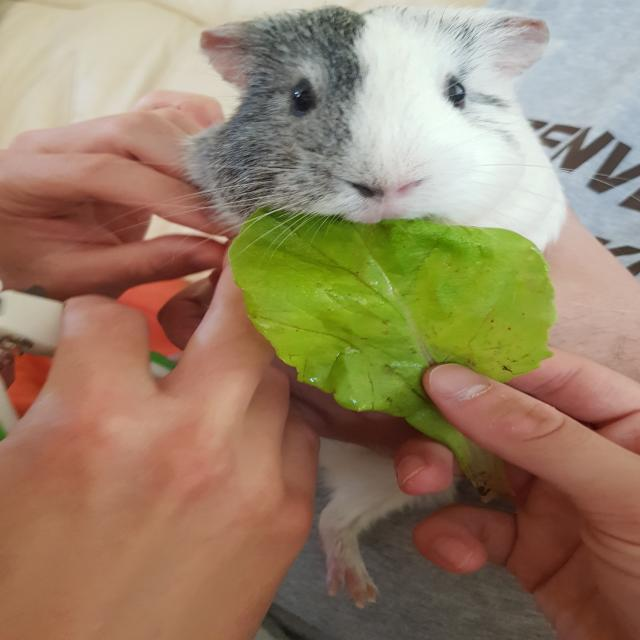guinea pig: (153, 4, 580, 266)
